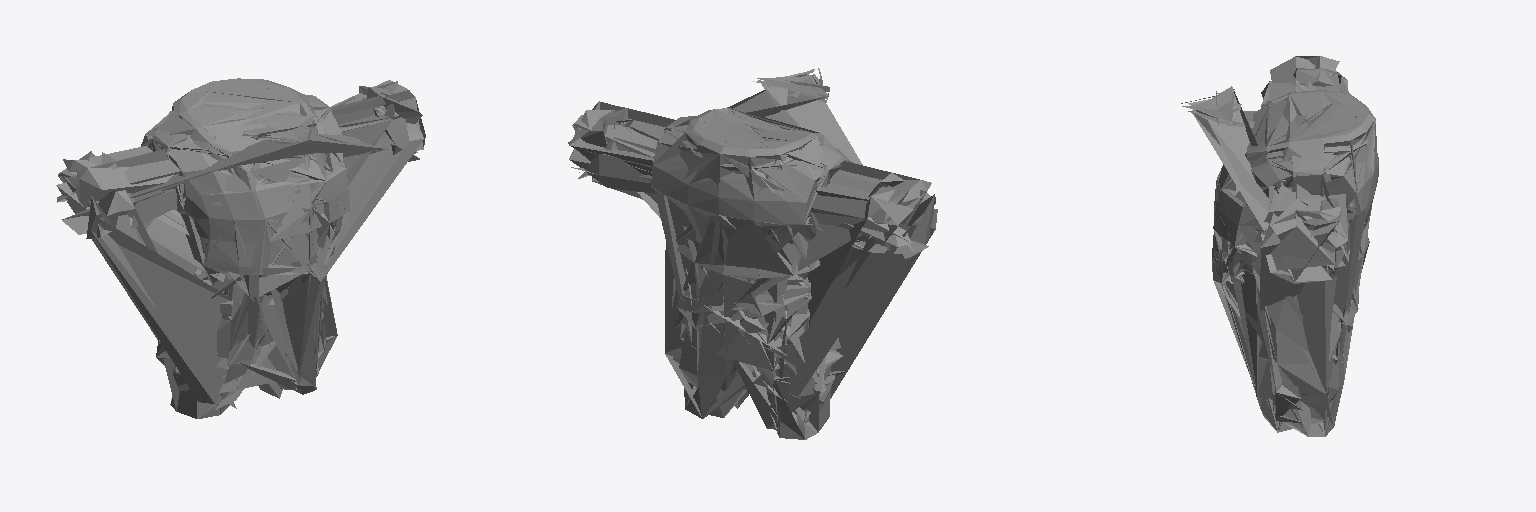
The model's file is fox.obj.
3 views of the same model, side by side, from view 1: azimuth 30°, elevation 25°; view 2: azimuth 150°, elevation 25°; view 3: azimuth 270°, elevation 25° (orthographic).
Visible parts, largest first — view 1: rdmobj00, rdmobj07, rdmobj04, rdmobj01, rdmobj05, rdmobj03, rdmobj06; view 2: rdmobj00, rdmobj01, rdmobj07, rdmobj03, rdmobj05, rdmobj04, rdmobj06; view 3: rdmobj00, rdmobj01, rdmobj07, rdmobj06, rdmobj04, rdmobj05, rdmobj03.
Boxes of the visible parts, box(x1,y1,x2,y2) form: rdmobj00: box(56, 78, 425, 418); rdmobj07: box(147, 79, 349, 295); rdmobj04: box(142, 87, 341, 418); rdmobj01: box(146, 88, 349, 418); rdmobj05: box(146, 78, 348, 389); rdmobj03: box(147, 81, 339, 272); rdmobj06: box(149, 78, 343, 376); rdmobj00: box(568, 68, 937, 439); rdmobj01: box(654, 108, 834, 439); rdmobj07: box(651, 108, 847, 278); rdmobj03: box(657, 110, 838, 275); rdmobj05: box(672, 109, 846, 418); rdmobj04: box(668, 109, 842, 438); rdmobj06: box(665, 118, 845, 414); rdmobj00: box(1181, 56, 1373, 436); rdmobj01: box(1213, 93, 1374, 436); rdmobj07: box(1213, 90, 1378, 270); rdmobj06: box(1212, 91, 1366, 435); rdmobj04: box(1212, 91, 1368, 436); rdmobj05: box(1212, 104, 1376, 435); rdmobj03: box(1222, 102, 1369, 276).
Size of the model in its own units: 106 by 89.89 by 52.86.